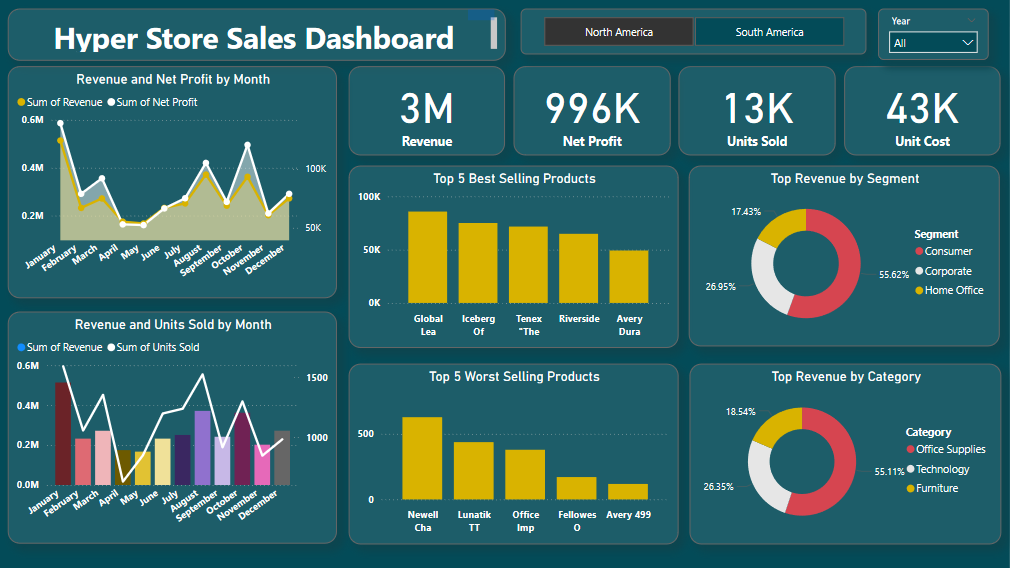

The page's visual inventory and layout, read from the dashboard file:
{"tool":"powerbi","page":{"name":"Hyper Sales Dashboard","canvas":[1280,720],"ordinal":0},"visuals":[{"type":"textbox","box":[9.9,11.3,630.7,65.2],"z":0},{"type":"card","fields":{"Values":["Sum(HyperStoreDataSet.Revenue)"]},"box":[442,84,198.4,113.4],"z":1000},{"type":"card","fields":{"Values":["Sum(HyperStoreDataSet.Net Profit)"]},"box":[651.2,84,198.4,113.4],"z":2000},{"type":"card","fields":{"Values":["Sum(HyperStoreDataSet.Units Sold)"]},"box":[860.4,84,198.4,113.4],"z":3000},{"type":"card","fields":{"Values":["Sum(HyperStoreDataSet.Unit Cost)"]},"box":[1069.7,84.1,198.2,112.5],"z":4000},{"type":"lineChart","title":" Revenue and Net Profit by Month","fields":{"Category":["HyperStoreDataSet.Delivery Date.Variation.Date Hierarchy.Month"],"Y":["Sum(HyperStoreDataSet.Revenue)"],"Y2":["Sum(HyperStoreDataSet.Net Profit)"]},"box":[10,84,417,294],"z":5000},{"type":"lineStackedColumnComboChart","title":"Revenue and Units Sold by Month","fields":{"Category":["HyperStoreDataSet.Delivery Date.Variation.Date Hierarchy.Month"],"Y":["Sum(HyperStoreDataSet.Revenue)"],"Y2":["Sum(HyperStoreDataSet.Units Sold)"]},"box":[9.9,395.4,416.7,293.4],"z":6000},{"type":"columnChart","title":"Top 5 Best Selling Products","fields":{"Category":["HyperStoreDataSet.Product Name"],"Y":["Sum(HyperStoreDataSet.Revenue)"]},"box":[442.2,209.8,418.1,231],"z":7000},{"type":"columnChart","title":"Top 5 Worst Selling Products","fields":{"Category":["HyperStoreDataSet.Product Name"],"Y":["Sum(HyperStoreDataSet.Revenue)"]},"box":[442.2,460.6,418.1,229.6],"z":8000},{"type":"donutChart","title":"Top Revenue by Segment","fields":{"Y":["Sum(HyperStoreDataSet.Revenue)"],"Category":["HyperStoreDataSet.Segment"]},"box":[873.1,209.8,394,229.6],"z":9000},{"type":"donutChart","title":"Top Revenue by Category","fields":{"Y":["Sum(HyperStoreDataSet.Revenue)"],"Category":["HyperStoreDataSet.Category"]},"box":[874.5,460.6,394,229.6],"z":10000},{"type":"slicer","fields":{"Values":["HyperStoreDataSet.South America"]},"box":[660,11,438,58],"z":11000},{"type":"slicer","title":"Year","fields":{"Values":["HyperStoreDataSet.Delivery Date.Variation.Date Hierarchy.Year"]},"box":[1113,11,140,65],"z":13000}]}

Visuals, with their boxes in screenshot pixels (x1, y1, x2, y2), scaled from the page's 1280x720 canvas onto the 1010x568 screenshot:
textbox: rect(8, 9, 505, 60)
card - Sum(HyperStoreDataSet.Revenue): rect(349, 66, 505, 156)
card - Sum(HyperStoreDataSet.Net Profit): rect(514, 66, 670, 156)
card - Sum(HyperStoreDataSet.Units Sold): rect(679, 66, 835, 156)
card - Sum(HyperStoreDataSet.Unit Cost): rect(844, 66, 1000, 155)
" Revenue and Net Profit by Month" lineChart: rect(8, 66, 337, 298)
"Revenue and Units Sold by Month" lineStackedColumnComboChart: rect(8, 312, 337, 543)
"Top 5 Best Selling Products" columnChart: rect(349, 166, 679, 348)
"Top 5 Worst Selling Products" columnChart: rect(349, 363, 679, 544)
"Top Revenue by Segment" donutChart: rect(689, 166, 1000, 347)
"Top Revenue by Category" donutChart: rect(690, 363, 1001, 544)
slicer - HyperStoreDataSet.South America: rect(521, 9, 866, 54)
"Year" slicer: rect(878, 9, 989, 60)
